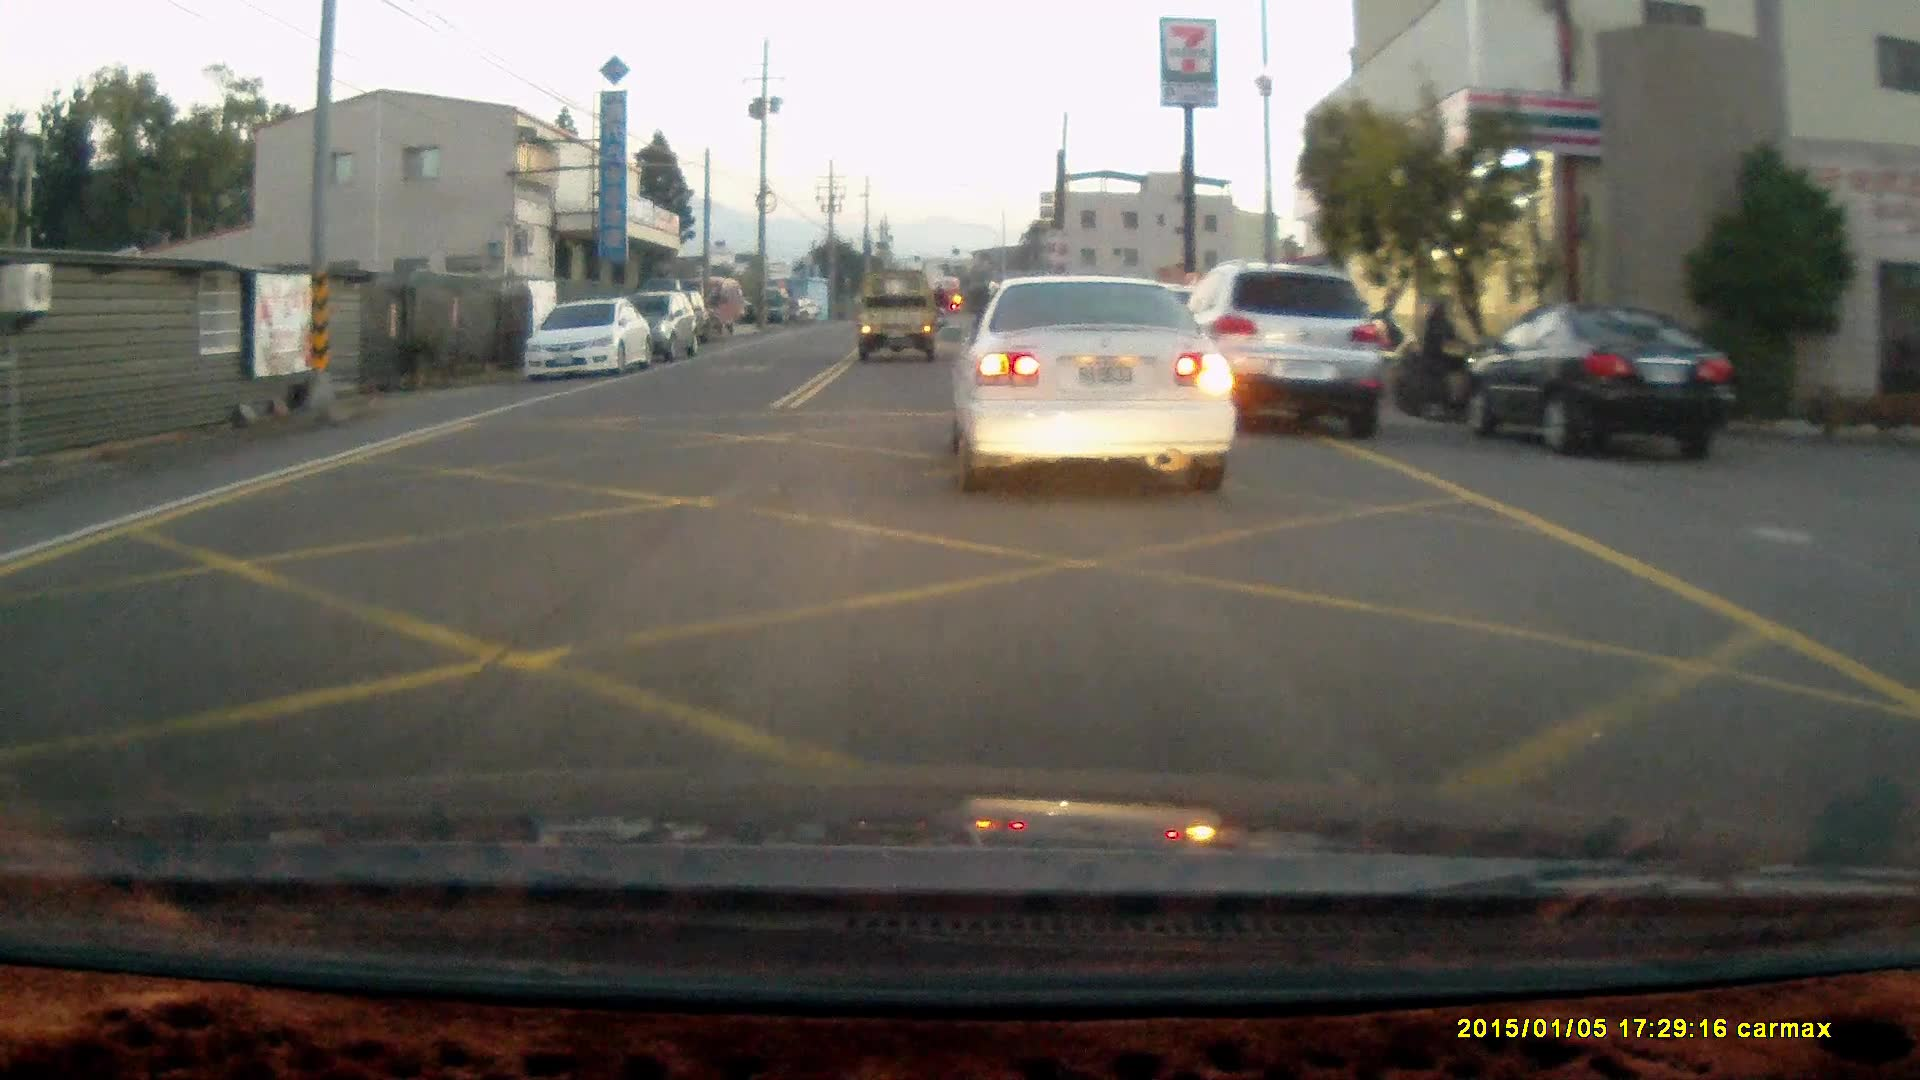rider: (1402, 294, 1498, 423), (927, 280, 953, 329)
vehicle: (952, 275, 1241, 487), (1459, 294, 1739, 456), (1185, 263, 1398, 443), (518, 293, 657, 381), (853, 267, 940, 359), (627, 293, 706, 361)
